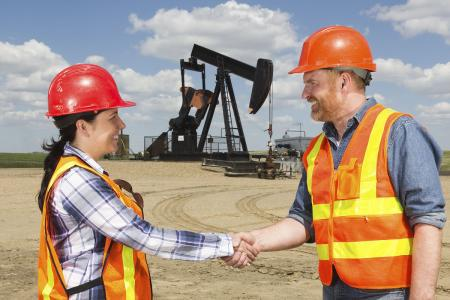helmet: (285, 15, 386, 128), (42, 55, 136, 158)
